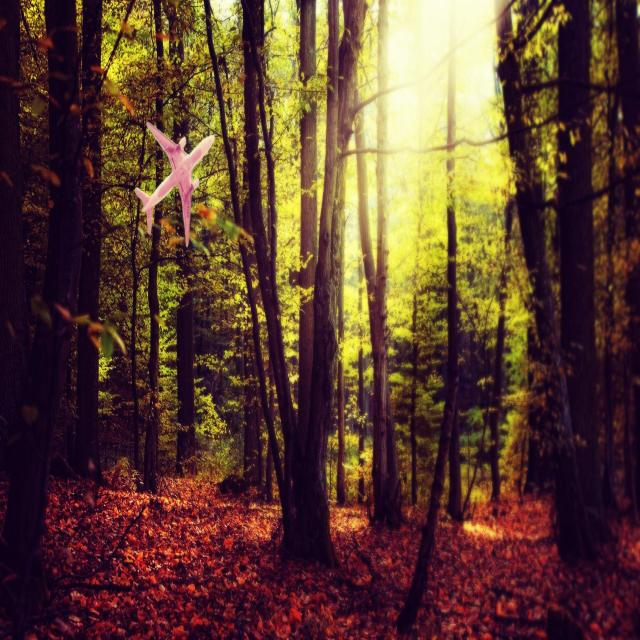airplane: (134, 120, 215, 248)
